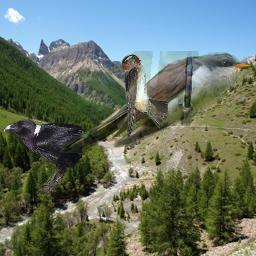Crow: (3, 119, 82, 197)
Cuckoo: (56, 51, 250, 153)
Swallow: (121, 54, 168, 139)
